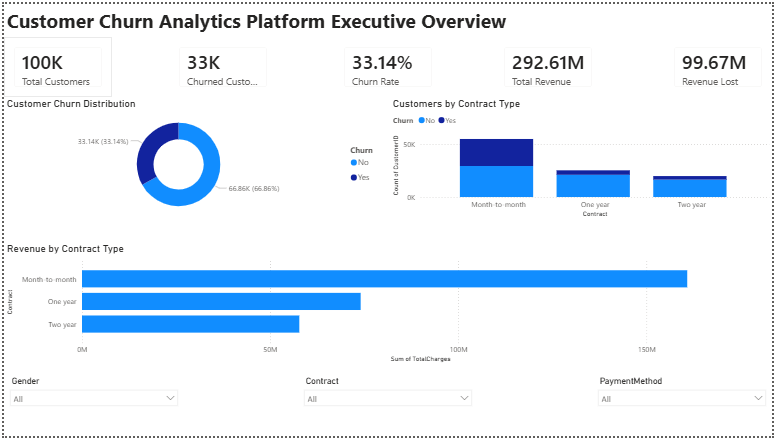

This screenshot's page, from the dashboard's own definition file:
{"tool":"powerbi","page":{"name":"Executive Overview","canvas":[1280,720],"ordinal":0},"visuals":[{"type":"textbox","box":[0,0,1280,54.3],"z":0},{"type":"cardVisual","fields":{"Data":["churn_final.Total Customers"]},"box":[0,54.3,180,100],"z":1000},{"type":"cardVisual","fields":{"Data":["churn_final.Churned Customers"]},"box":[274.3,54.3,180,100],"z":2000},{"type":"cardVisual","fields":{"Data":["churn_final.Churn Rate"]},"box":[550,54.3,180,100],"z":3000},{"type":"cardVisual","fields":{"Data":["churn_final.Total Revenue"]},"box":[817.1,54.3,180,100],"z":4000},{"type":"cardVisual","fields":{"Data":["churn_final.Revenue Lost"]},"box":[1100,54.3,180,100],"z":5000},{"type":"donutChart","title":"Customer Churn Distribution","fields":{"Category":["churn_final.Churn"],"Y":["CountNonNull(churn_final.CustomerID)"]},"box":[0,154.3,640,205.7],"z":5001},{"type":"columnChart","title":"Customers by Contract Type","fields":{"Category":["churn_final.Contract"],"Y":["CountNonNull(churn_final.CustomerID)"],"Series":["churn_final.Churn"]},"box":[642.9,154.3,637.1,205.7],"z":5002},{"type":"clusteredBarChart","title":"Revenue by Contract Type","fields":{"Y":["Sum(churn_final.TotalCharges)"],"Category":["churn_final.Contract"]},"box":[0,397.1,1280,205.7],"z":5003},{"type":"slicer","fields":{"Values":["churn_final.Contract"]},"box":[490,614.3,300,105.7],"z":5004},{"type":"slicer","fields":{"Values":["churn_final.Gender"]},"box":[0,614.3,300,105.7],"z":5005},{"type":"slicer","fields":{"Values":["churn_final.PaymentMethod"]},"box":[980,614.3,300,105.7],"z":5006}]}

Visuals, with their boxes in screenshot pixels (x1, y1, x2, y2), scaled from the page's 1280x720 canvas onto the 778x441 screenshot:
textbox: rect(0, 0, 777, 33)
cardVisual - churn_final.Total Customers: rect(0, 33, 109, 95)
cardVisual - churn_final.Churned Customers: rect(167, 33, 276, 95)
cardVisual - churn_final.Churn Rate: rect(334, 33, 444, 95)
cardVisual - churn_final.Total Revenue: rect(497, 33, 606, 95)
cardVisual - churn_final.Revenue Lost: rect(669, 33, 777, 95)
"Customer Churn Distribution" donutChart: rect(0, 95, 389, 221)
"Customers by Contract Type" columnChart: rect(391, 95, 777, 221)
"Revenue by Contract Type" clusteredBarChart: rect(0, 243, 777, 369)
slicer - churn_final.Contract: rect(298, 376, 480, 440)
slicer - churn_final.Gender: rect(0, 376, 182, 440)
slicer - churn_final.PaymentMethod: rect(596, 376, 777, 440)
